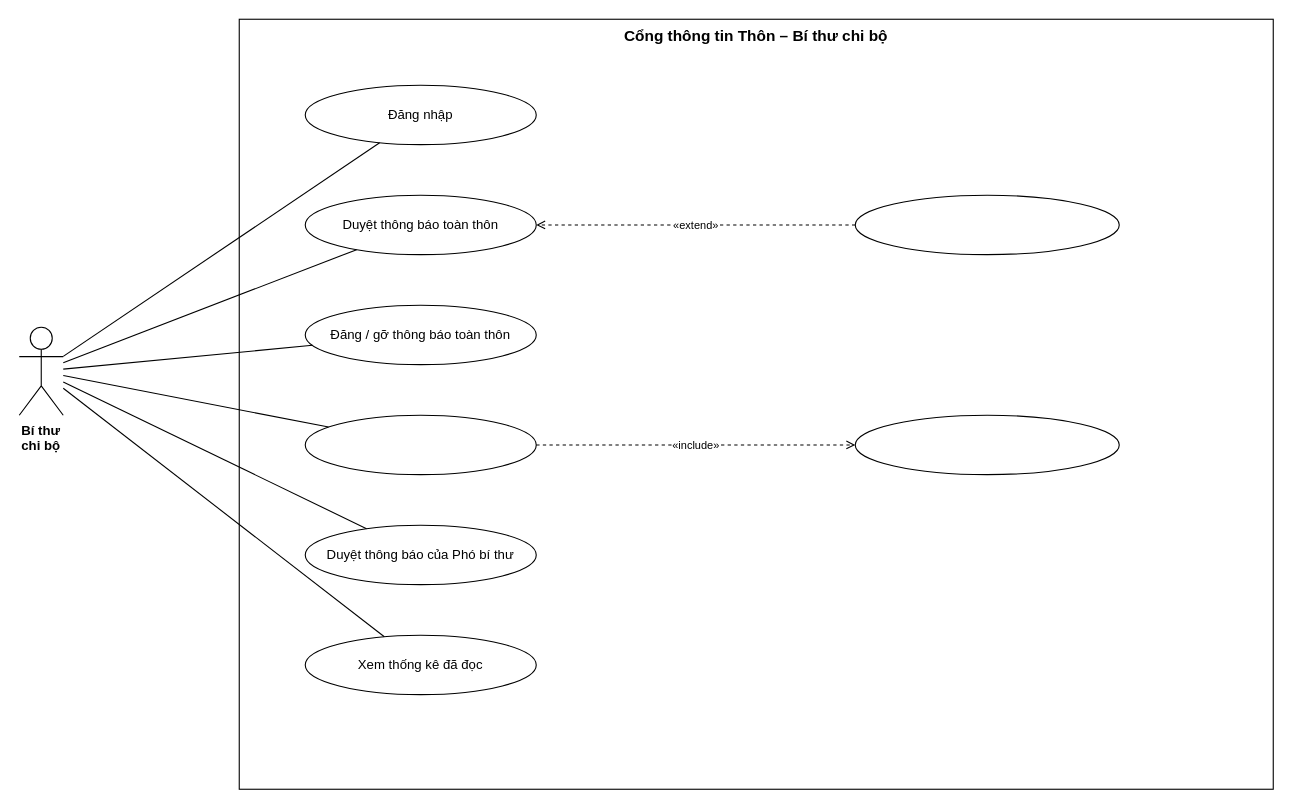
The diagram is 1293 pixels wide and 809 high, and some of its shapes have lost their labels. Here are the shapes that lost their labels. From the top down, the box of each, then its label:
(854, 194, 1119, 255): Từ chối (nhập lý do)
(304, 414, 536, 475): Đăng thông báo nội bộ chi bộ
(854, 414, 1119, 475): Chỉ gửi đảng viên
